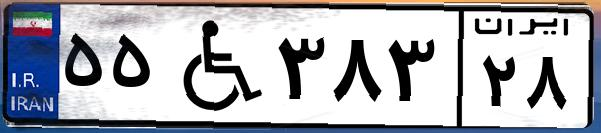2: (475, 38, 525, 113)
3: (270, 28, 330, 110), (385, 28, 445, 110)
5: (57, 26, 110, 100), (110, 28, 158, 98)
8: (330, 28, 385, 110), (525, 38, 570, 115)
ژ (معلولین و جانبازان): (158, 12, 270, 120)
